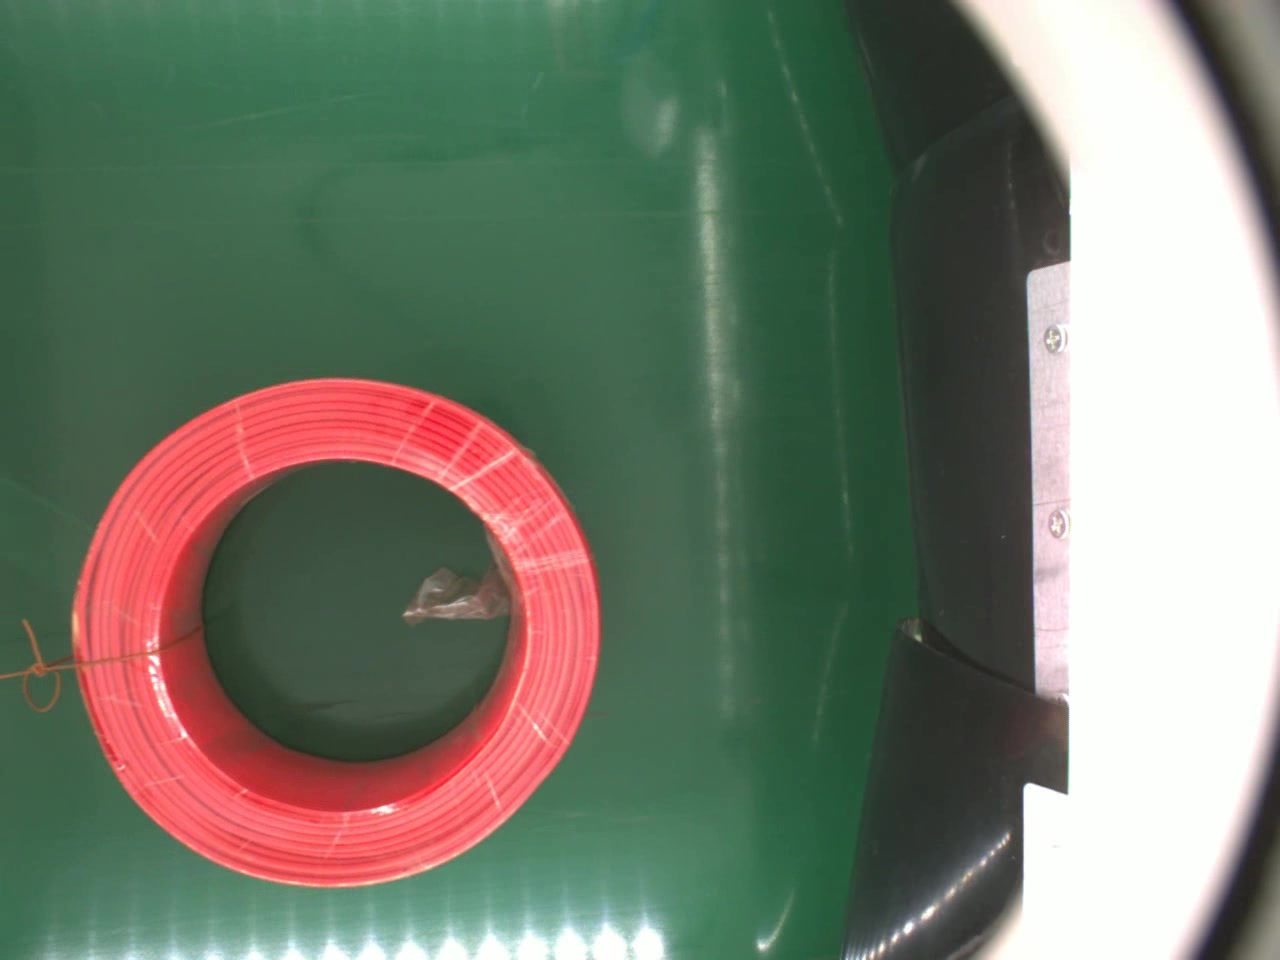red: (69, 375, 604, 890)
